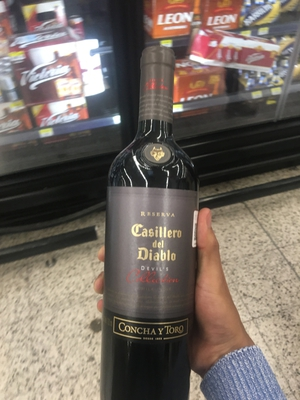casillero del diablo devils collection rojo: (104, 45, 195, 400)
